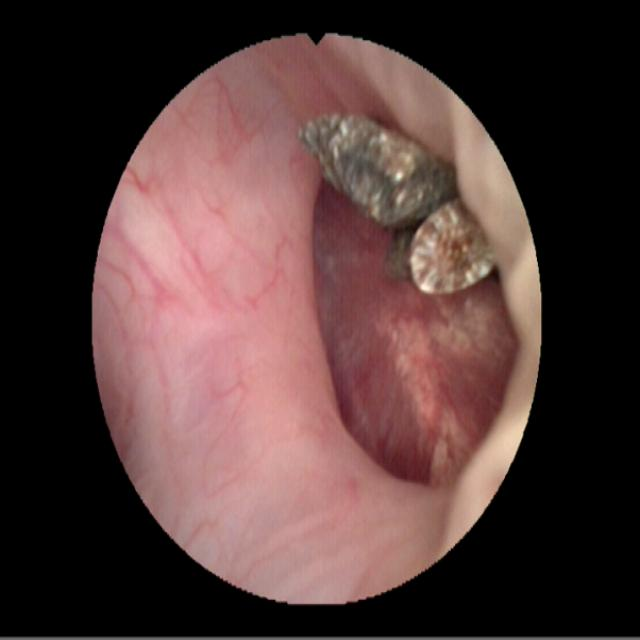stone: (300, 112, 496, 290)
tissue: (108, 52, 534, 587)
